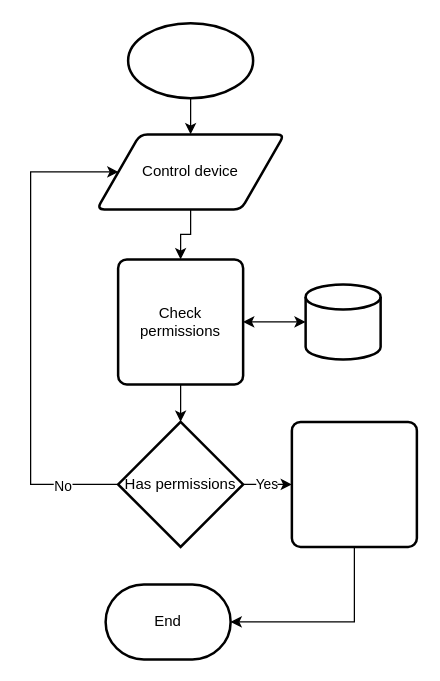
Some shapes in this 440 by 681 pixel diagram are drawn without their labels. Here are the shapes that lost their labels. From the top down, the centre of each, then its label:
At point (190, 60): "Start".
At point (354, 484): "Gatekeeper".
